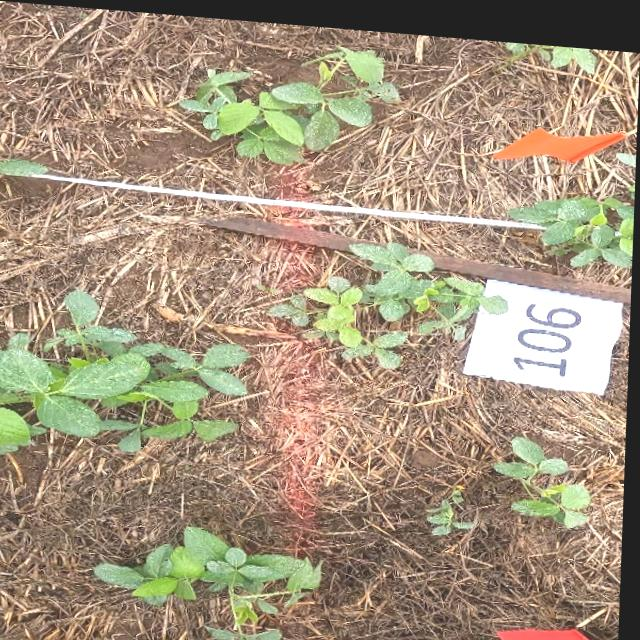soy_plant: (0, 288, 249, 452), (273, 235, 510, 361), (99, 522, 325, 640), (182, 42, 399, 158), (512, 186, 635, 255), (499, 427, 593, 517), (520, 295, 582, 344), (507, 33, 597, 60), (432, 480, 475, 527)
